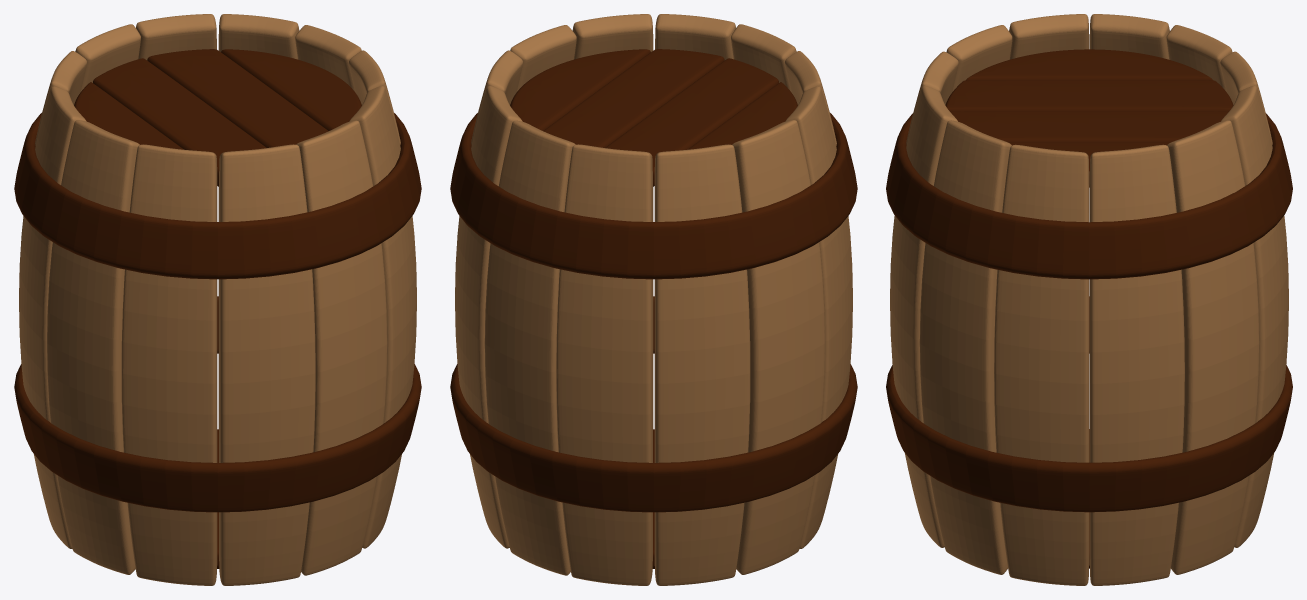
Rendered from Barrel.fbx.
3 renders of one model, left to right at view 1: azimuth 30°, elevation 25°; view 2: azimuth 150°, elevation 25°; view 3: azimuth 270°, elevation 25°, orthographic.
Parts seen in each view (by area): view 1: Barrel; view 2: Barrel; view 3: Barrel.
Boxes of the visible parts, box(x1,y1,x2,y2) form: Barrel: box(14, 14, 421, 585); Barrel: box(450, 14, 857, 585); Barrel: box(886, 14, 1292, 585).
Size of the model in its own units: 228 by 268 by 228.
